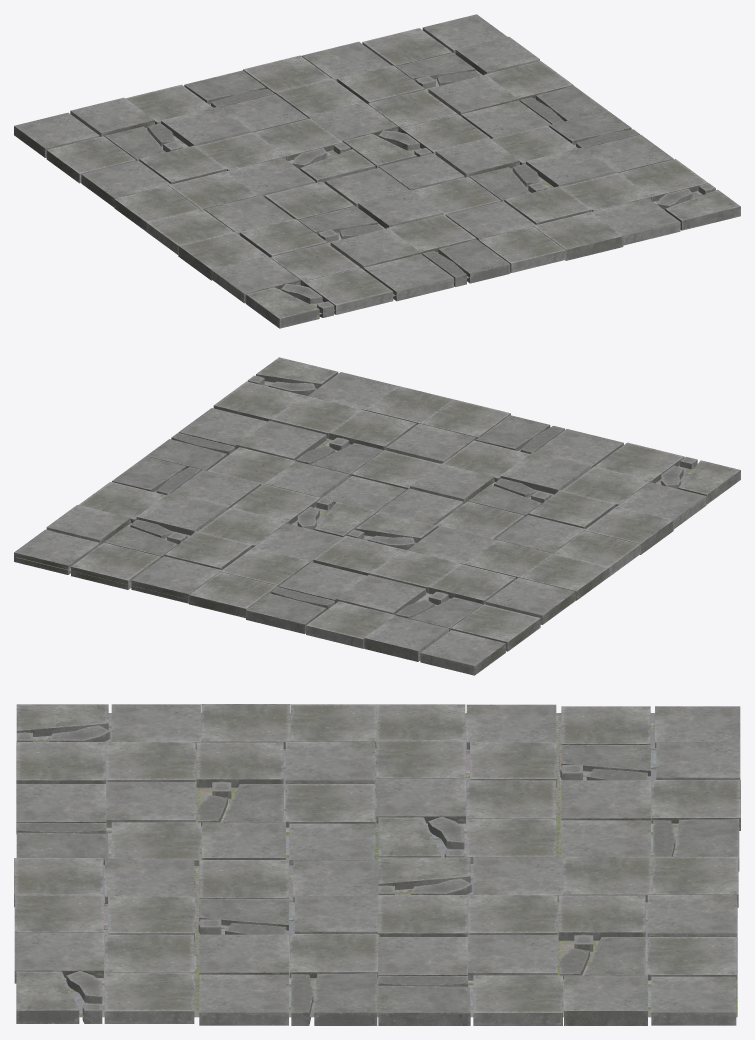
File: SM_floortiles_large.fbx
The picture shows the model from 3 angles, top to bottom: view 1: azimuth 30°, elevation 25°; view 2: azimuth 150°, elevation 25°; view 3: azimuth 270°, elevation 25°; orthographic projection. The views are drawn at different scales.
Visible parts, largest first — view 1: DarkFantasyObject60; view 2: DarkFantasyObject60; view 3: DarkFantasyObject60.
Part boxes in pixels (box(x1,y1,x2,y2)): DarkFantasyObject60: box(14, 14, 740, 328); DarkFantasyObject60: box(14, 357, 740, 675); DarkFantasyObject60: box(14, 704, 740, 1025).
Bounding box in the file's own units: 394 × 9.53 × 394.
